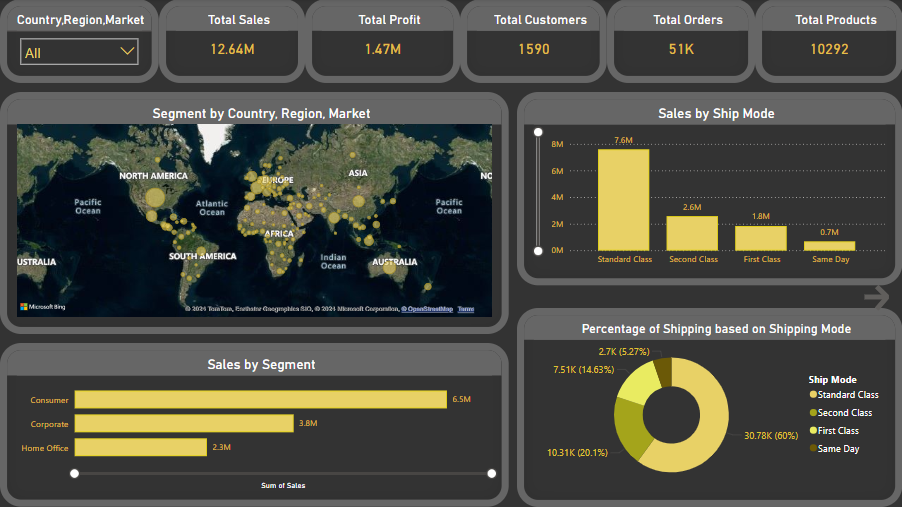

What the dashboard file says about the page in this screenshot:
{"tool":"powerbi","page":{"name":"segment and ship mode ","canvas":[1280,720],"ordinal":0},"visuals":[{"type":"donutChart","title":"Percentage of Shipping based on Shipping Mode","fields":{"Category":["Orders.Ship Mode"],"Y":["CountNonNull(Orders.Ship Mode)"]},"box":[732.8,438,545.7,282],"z":0},{"type":"card","title":"Total Customers","fields":{"Values":["Orders.Total Customers"]},"box":[652,0,208.3,119.1],"z":1000},{"type":"card","title":"Total Profit","fields":{"Values":["Orders.Total Profit"]},"box":[432.3,0,219.7,119.1],"z":2000},{"type":"card","title":"Total Sales","fields":{"Values":["Orders.Total Sales"]},"box":[225.4,0,206.9,119.1],"z":3000},{"type":"card","title":"Total Products","fields":{"Values":["Orders.Total Products"]},"box":[1070.1,0,209.8,119.1],"z":4000},{"type":"card","title":"Total Orders","fields":{"Values":["Orders.Total no.of orders"]},"box":[860.3,0,209.8,119.1],"z":5000},{"type":"map","title":"Segment by Country, Region, Market","fields":{"Category":["Orders.Country","Orders.Region","Orders.Market"],"Size":["Sum(Orders.Sales)"]},"box":[0,131.8,721.4,343],"z":6000},{"type":"slicer","title":"Country,Region,Market","fields":{"Values":["Orders.Country","Orders.Region","Orders.Market"]},"box":[0,0,225.4,119.1],"z":7000},{"type":"columnChart","title":"Sales by Ship Mode","fields":{"Category":["Orders.Ship Mode"],"Y":["Sum(Orders.Sales)"]},"box":[732.8,131.8,545.7,273.5],"z":8000},{"type":"clusteredBarChart","title":"Sales by Segment","fields":{"Category":["Orders.Segment"],"Y":["Sum(Orders.Sales)"]},"box":[0,487.6,721.4,232.4],"z":9000},{"type":"actionButton","box":[1218.9,360,60.9,127.6],"z":10002}]}

Visuals, with their boxes in screenshot pixels (x1, y1, x2, y2), scaled from the page's 1280x720 canvas onto the 902x507 screenshot:
"Percentage of Shipping based on Shipping Mode" donutChart: <bbox>516, 308, 901, 506</bbox>
"Total Customers" card: <bbox>459, 0, 606, 84</bbox>
"Total Profit" card: <bbox>305, 0, 459, 84</bbox>
"Total Sales" card: <bbox>159, 0, 305, 84</bbox>
"Total Products" card: <bbox>754, 0, 901, 84</bbox>
"Total Orders" card: <bbox>606, 0, 754, 84</bbox>
"Segment by Country, Region, Market" map: <bbox>0, 93, 508, 334</bbox>
"Country,Region,Market" slicer: <bbox>0, 0, 159, 84</bbox>
"Sales by Ship Mode" columnChart: <bbox>516, 93, 901, 285</bbox>
"Sales by Segment" clusteredBarChart: <bbox>0, 343, 508, 506</bbox>
actionButton: <bbox>859, 254, 901, 343</bbox>
